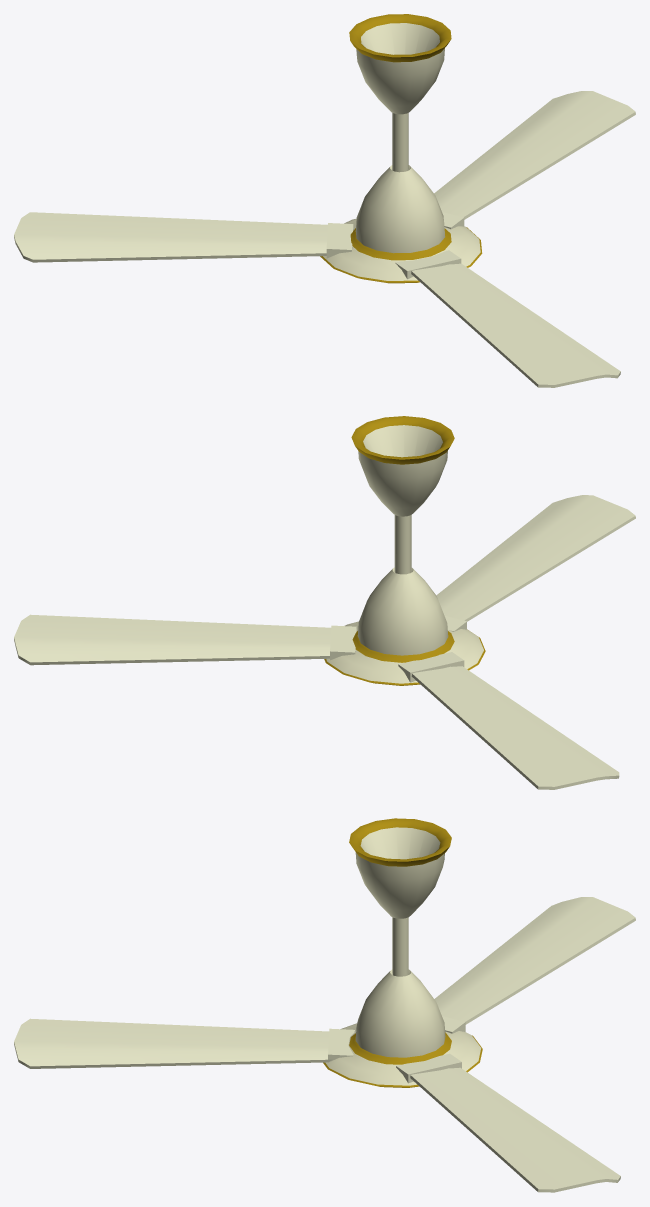
The model's file is Low-Poly Ceiling Fan.fbx.
3 views of the same model, one above another, from view 1: azimuth 30°, elevation 25°; view 2: azimuth 150°, elevation 25°; view 3: azimuth 270°, elevation 25° (orthographic).
Parts seen in each view (by area): view 1: Ceiling Fan; view 2: Ceiling Fan; view 3: Ceiling Fan.
Boxes of the visible parts, bbox=[...] form: Ceiling Fan: bbox=[14, 14, 635, 387]; Ceiling Fan: bbox=[14, 416, 635, 789]; Ceiling Fan: bbox=[14, 818, 635, 1192].
Bounding box in the file's own units: 360 × 131 × 322.
